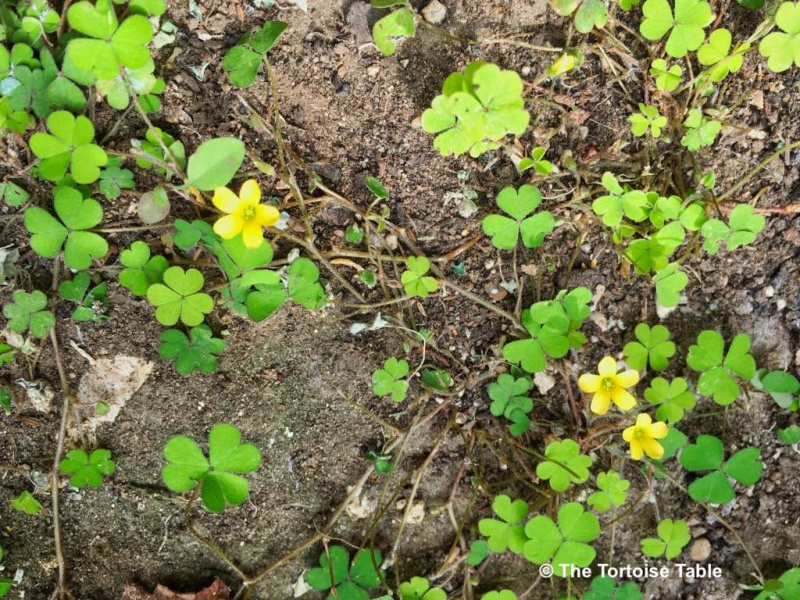oxalis: (31, 16, 149, 310), (566, 161, 785, 293), (693, 316, 795, 557), (618, 7, 800, 121), (502, 438, 623, 586), (119, 229, 229, 386), (400, 60, 558, 163), (494, 287, 593, 416), (141, 421, 276, 515), (36, 435, 140, 514), (291, 538, 409, 600), (483, 184, 558, 278), (360, 351, 457, 416), (398, 241, 452, 305)
